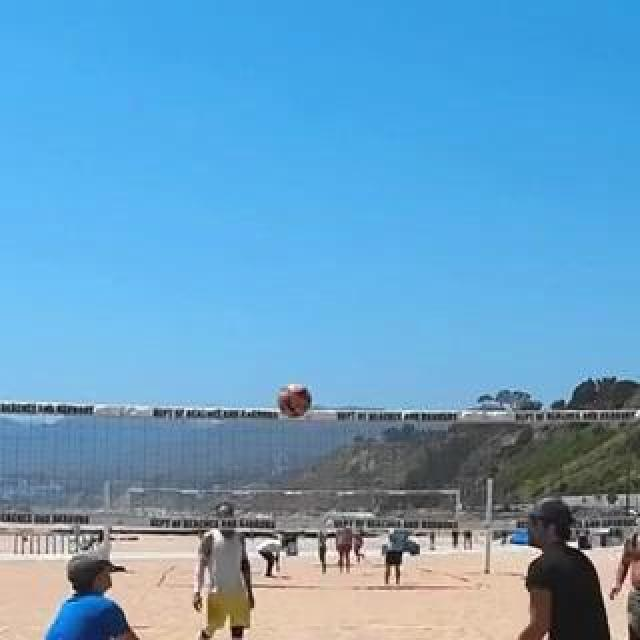volleyball: (277, 384, 311, 418)
